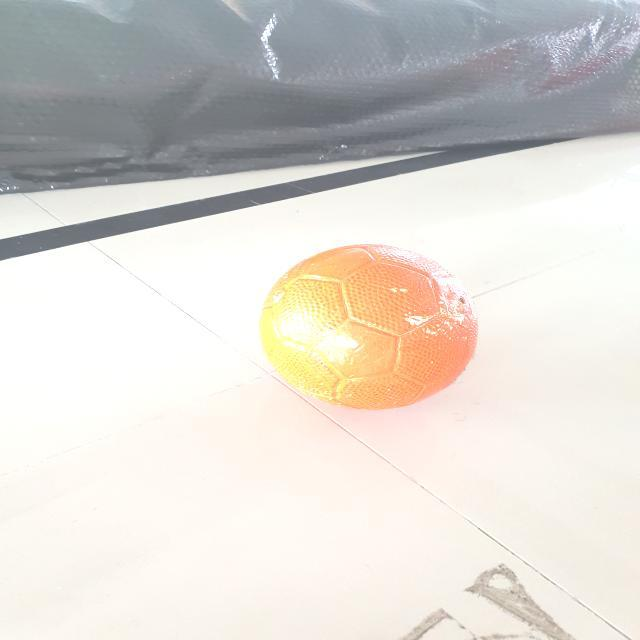bola: (239, 230, 488, 416)
